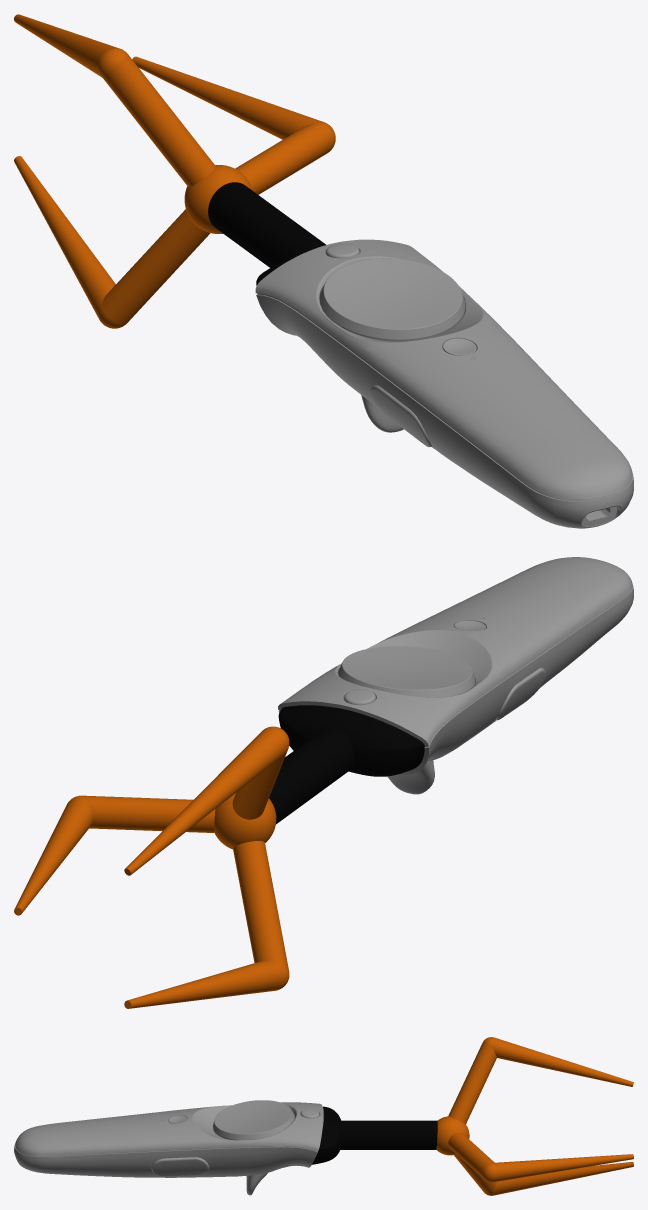
File: viveController_Claw_02.FBX
The picture shows the model from 3 angles, top to bottom: view 1: azimuth 30°, elevation 25°; view 2: azimuth 150°, elevation 25°; view 3: azimuth 270°, elevation 25°; orthographic projection. The views are drawn at different scales.
Parts seen in each view (by area): view 1: vive_handle, pince_manche, pince_C, pince_B, pince_A2, pince_B2, pince_A, pince_C2, pince_mancheSph; view 2: vive_handle, vive_roundtop, pince_manche, pince_C2, pince_B, pince_B2, pince_A, pince_A2, pince_mancheSph, pince_C; view 3: vive_handle, pince_manche, pince_C2, pince_A2, pince_C, pince_B2, vive_roundtop, pince_A, pince_mancheSph, pince_B.
Boxes of the visible parts, box(x1,y1,x2,y2) form: vive_handle: box(255, 239, 633, 528); pince_manche: box(208, 182, 325, 267); pince_C: box(101, 55, 215, 186); pince_B: box(101, 209, 210, 324); pince_A2: box(132, 56, 322, 139); pince_B2: box(14, 156, 115, 318); pince_A: box(235, 122, 332, 194); pince_C2: box(14, 14, 122, 77); pince_mancheSph: box(184, 165, 252, 233); vive_handle: box(278, 557, 633, 794); vive_roundtop: box(278, 705, 424, 776); pince_manche: box(269, 726, 354, 824); pince_C2: box(124, 729, 286, 875); pince_B: box(233, 841, 288, 970); pince_B2: box(124, 960, 286, 1008); pince_A: box(81, 795, 215, 832); pince_A2: box(14, 797, 92, 915); pince_mancheSph: box(214, 793, 276, 849); pince_C: box(232, 750, 287, 819); vive_handle: box(14, 1100, 323, 1195); pince_manche: box(337, 1120, 437, 1149); pince_C2: box(491, 1037, 633, 1086); pince_A2: box(491, 1154, 633, 1182); pince_C: box(448, 1042, 496, 1123); pince_B2: box(491, 1162, 633, 1195); vive_roundtop: box(312, 1106, 342, 1164); pince_A: box(448, 1132, 494, 1178); pince_mancheSph: box(436, 1116, 469, 1155); pince_B: box(454, 1154, 496, 1194).
Size of the model in its own units: 0.0312 by 0.0354 by 0.1266.
